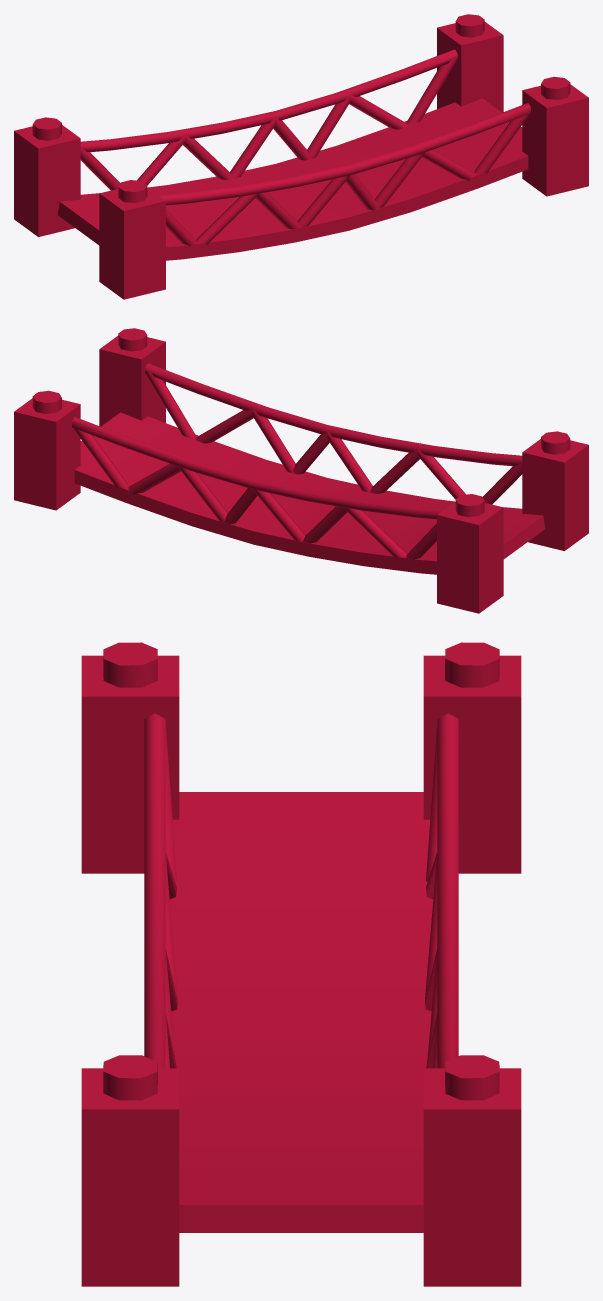
The model's file is Bridge.FBX.
The picture shows the model from 3 angles, top to bottom: view 1: azimuth 30°, elevation 25°; view 2: azimuth 150°, elevation 25°; view 3: azimuth 270°, elevation 25°; orthographic projection. The views are drawn at different scales.
Visible parts, largest first — view 1: Bridge_base, Bridge, Bridge_ropes; view 2: Bridge_base, Bridge, Bridge_ropes; view 3: Bridge, Bridge_base, Bridge_ropes.
Part boxes in pixels (x1,y1,x2,y2): Bridge_base: (14,14,588,299); Bridge: (57,98,528,260); Bridge_ropes: (80,49,530,246); Bridge_base: (14,328,588,613); Bridge: (74,412,545,574); Bridge_ropes: (72,363,522,560); Bridge: (169,792,433,1232); Bridge_base: (81,642,521,1286); Bridge_ropes: (144,713,458,1068).
Size of the model in its own units: 1100 by 450 by 234.
